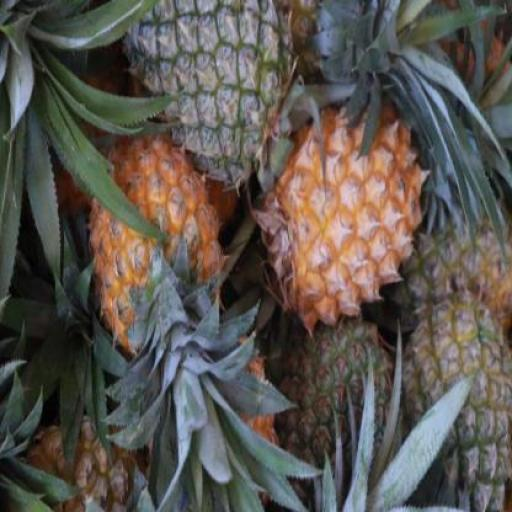------------------------------: (404, 293, 510, 511)
Pineapple - v8 v1: (264, 94, 428, 324), (82, 136, 222, 355)
